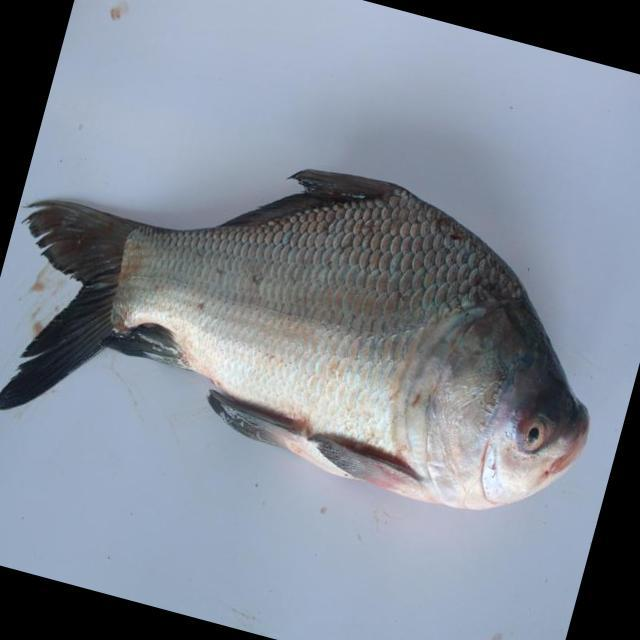Catla: (4, 167, 600, 508)
